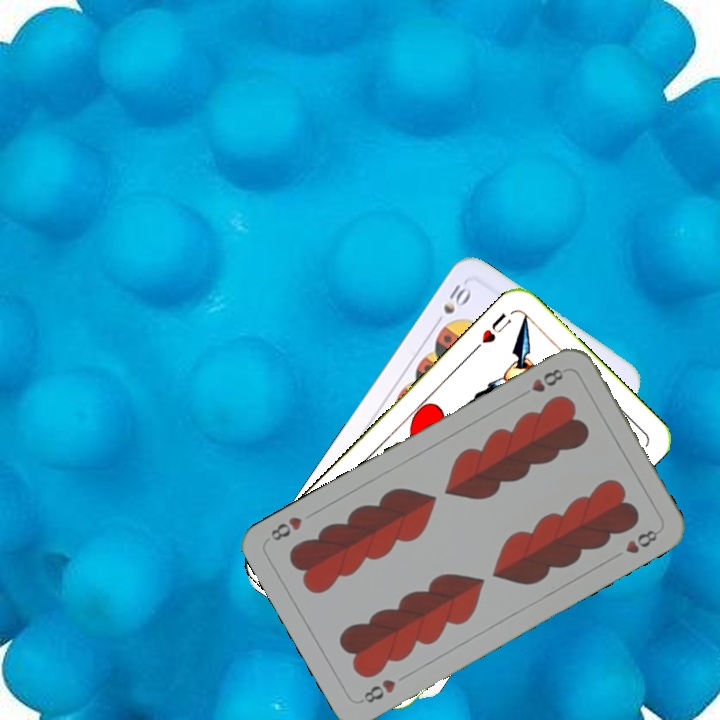H8: (515, 364, 566, 400), (356, 675, 399, 706)
HU: (470, 308, 514, 354)
S10: (430, 280, 474, 330)
